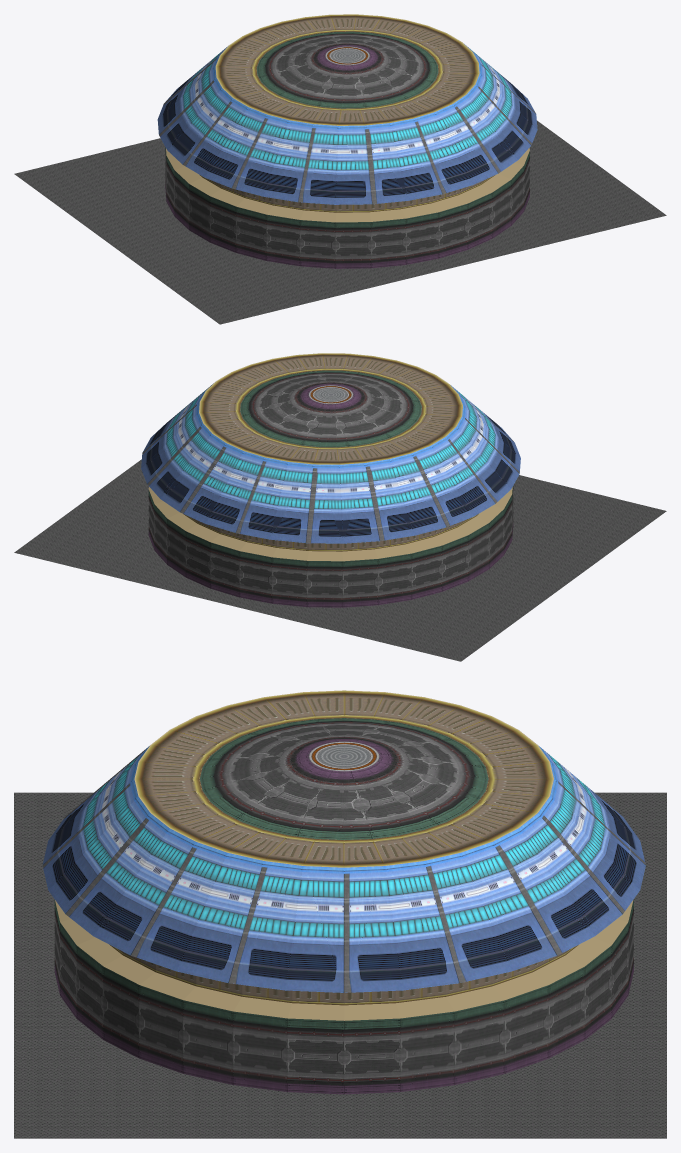
3 renders of one model, top to bottom at view 1: azimuth 30°, elevation 25°; view 2: azimuth 150°, elevation 25°; view 3: azimuth 270°, elevation 25°, orthographic. The views are drawn at different scales.
Parts seen in each view (by area): view 1: Cybernetic_Crescent_2017.019, Cybernetic_Crescent_2017.010, Cybernetic_Crescent_2017.001, Circle.002, Cybernetic_Crescent_2017.018; view 2: Cybernetic_Crescent_2017.019, Cybernetic_Crescent_2017.010, Cybernetic_Crescent_2017.001, Circle.002, Cybernetic_Crescent_2017.018; view 3: Cybernetic_Crescent_2017.010, Cybernetic_Crescent_2017.001, Cybernetic_Crescent_2017.019, Circle.002, Cybernetic_Crescent_2017.018.
Boxes of the visible parts, x1,y1,x2,y2 form: Cybernetic_Crescent_2017.019: (14,120,666,324); Cybernetic_Crescent_2017.010: (157,44,537,204); Cybernetic_Crescent_2017.001: (165,31,529,268); Circle.002: (166,14,529,222); Cybernetic_Crescent_2017.018: (325,46,369,65); Cybernetic_Crescent_2017.019: (14,459,666,661); Cybernetic_Crescent_2017.010: (141,383,520,543); Cybernetic_Crescent_2017.001: (148,370,513,607); Circle.002: (148,353,512,561); Cybernetic_Crescent_2017.018: (309,385,352,403); Cybernetic_Crescent_2017.010: (42,746,645,992); Cybernetic_Crescent_2017.001: (54,718,633,1094); Cybernetic_Crescent_2017.019: (14,792,666,1138); Circle.002: (55,690,633,1020); Cybernetic_Crescent_2017.018: (309,741,379,771).
Size of the model in its own units: 165857 by 50536 by 132351.
23 materials, 23 textured.
